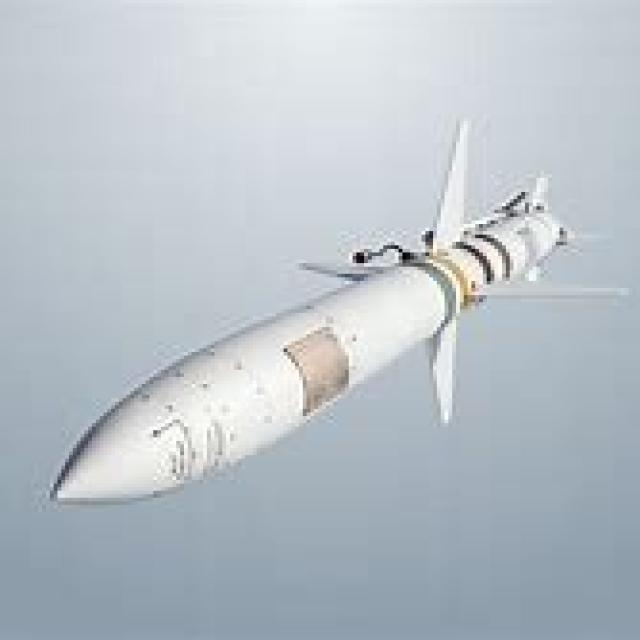missile: (48, 123, 616, 505)
